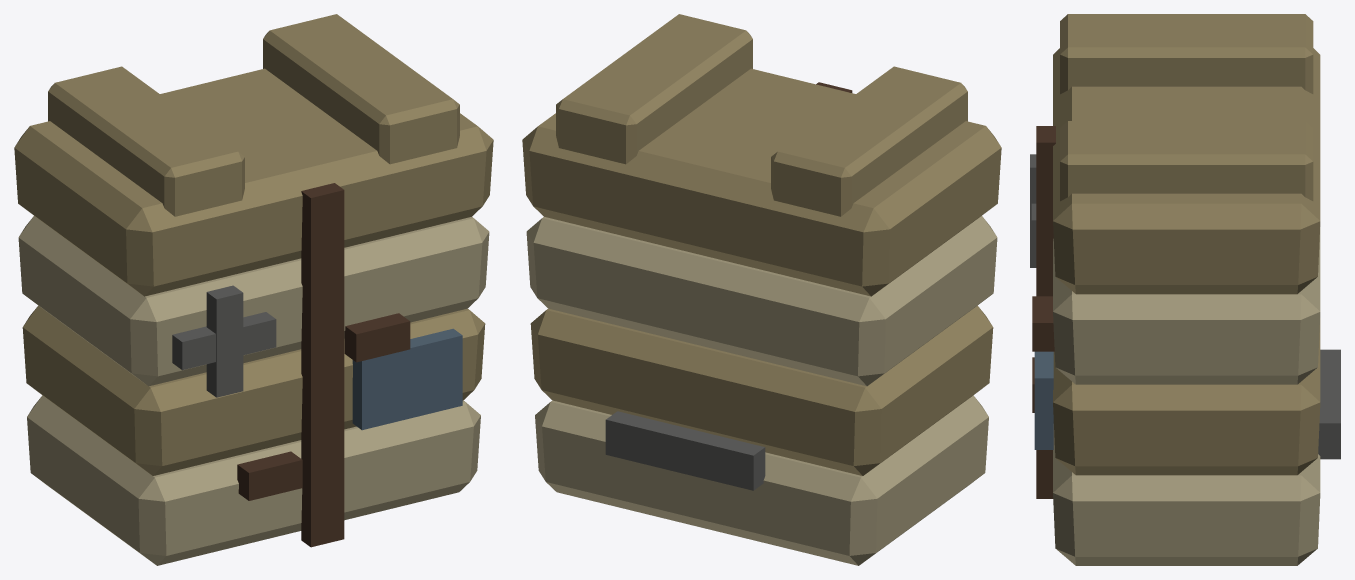
Rendered from item_padded_vest.glb.
3 renders of one model, left to right at view 1: azimuth 30°, elevation 25°; view 2: azimuth 150°, elevation 25°; view 3: azimuth 270°, elevation 25°, orthographic. The views are drawn at different scales.
Parts seen in each view (by area): view 1: padded_vest; view 2: padded_vest; view 3: padded_vest.
Part boxes in pixels (<box>): padded_vest: <box>14,14,493,565</box>; padded_vest: <box>522,14,1001,565</box>; padded_vest: <box>1030,14,1340,565</box>.
Size of the model in its own units: 0.5476 by 0.567 by 0.393.
